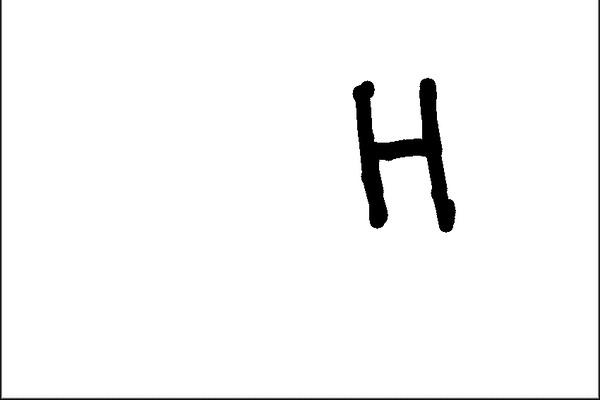H: (348, 71, 461, 238)
